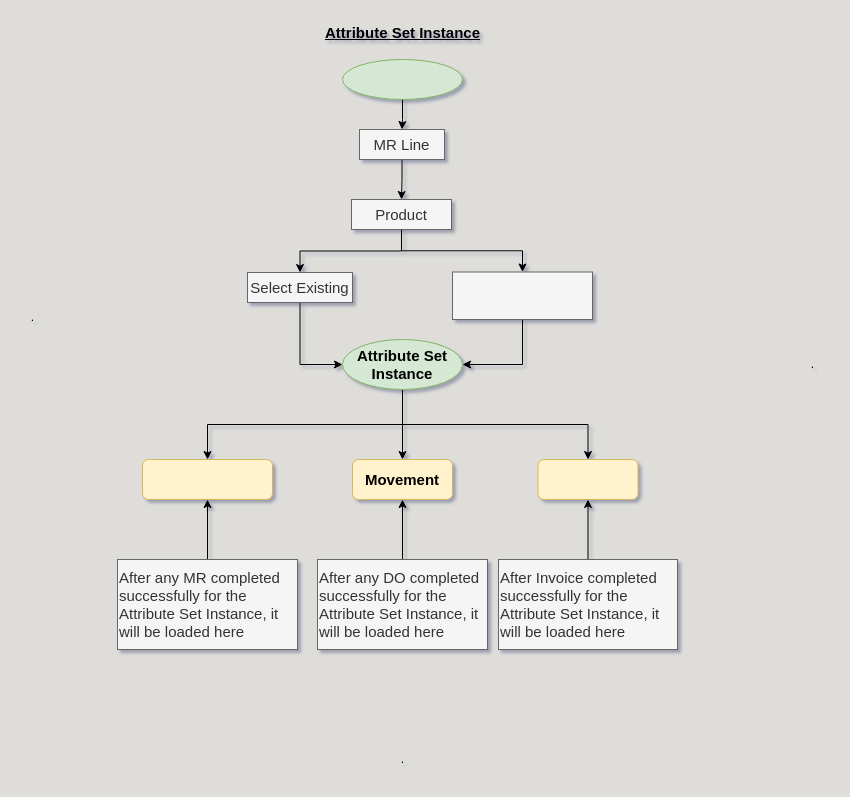
Some shapes in this 850 by 797 pixel diagram are drawn without their labels. Here are the shapes that lost their labels. From the top down, the centre of each, then its label:
[402,79]: Material Recipt
[522,295]: Manually Create a new lot
[207,479]: Shipment Receipt
[587,479]: Invoice
